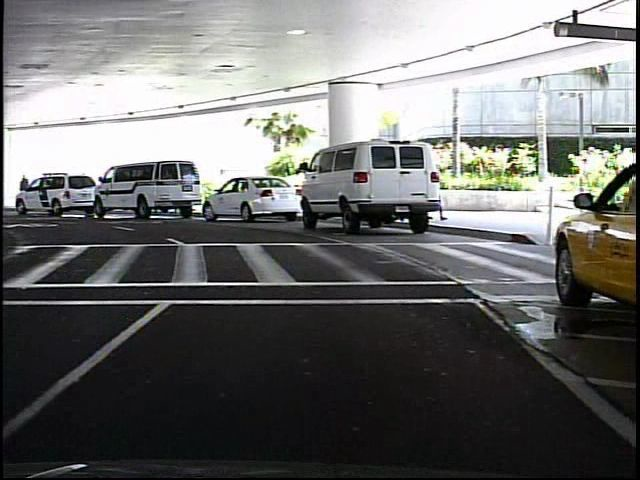person: (19, 170, 36, 208)
